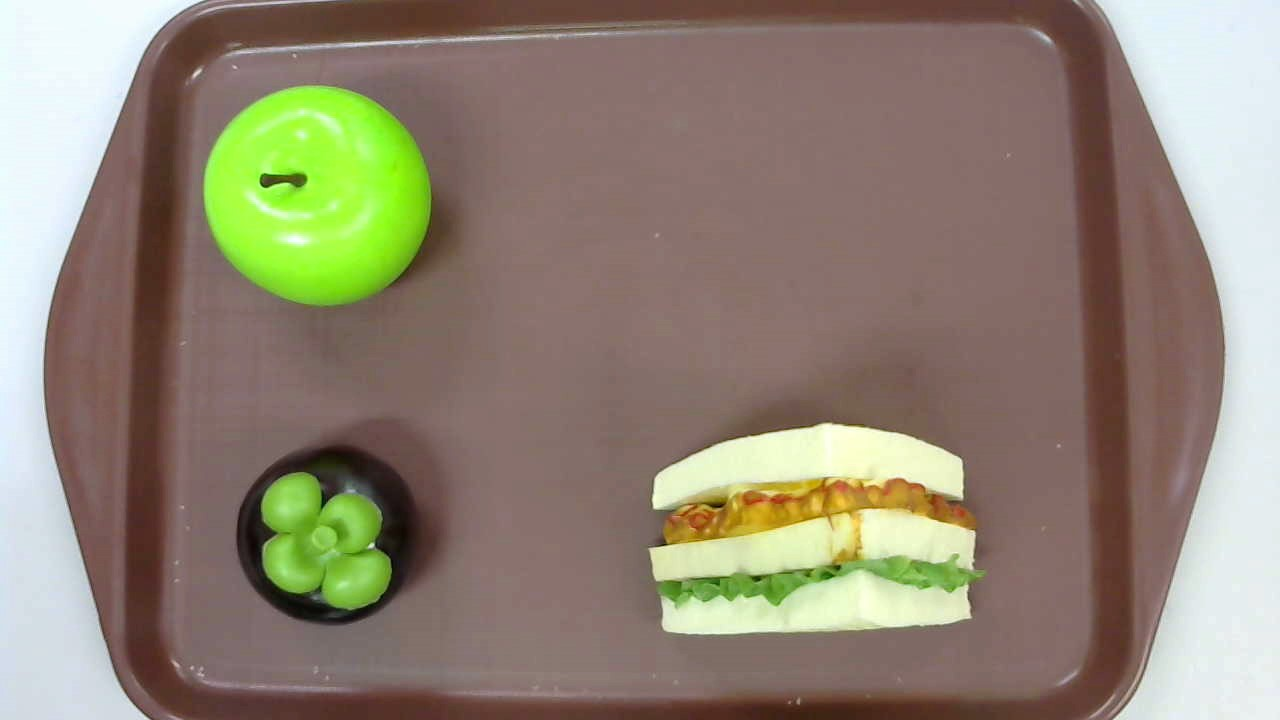green apple: (202, 85, 432, 306)
mangosteen: (235, 442, 422, 628)
sandwich: (646, 422, 986, 635)
